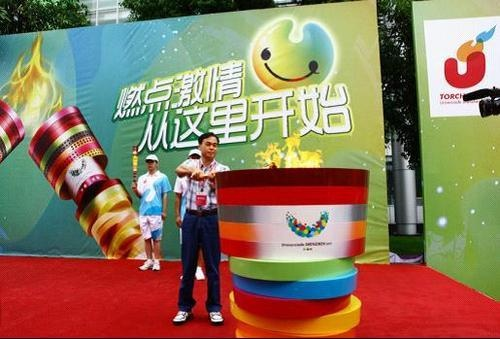fire: (1, 30, 67, 134), (256, 134, 325, 168)
